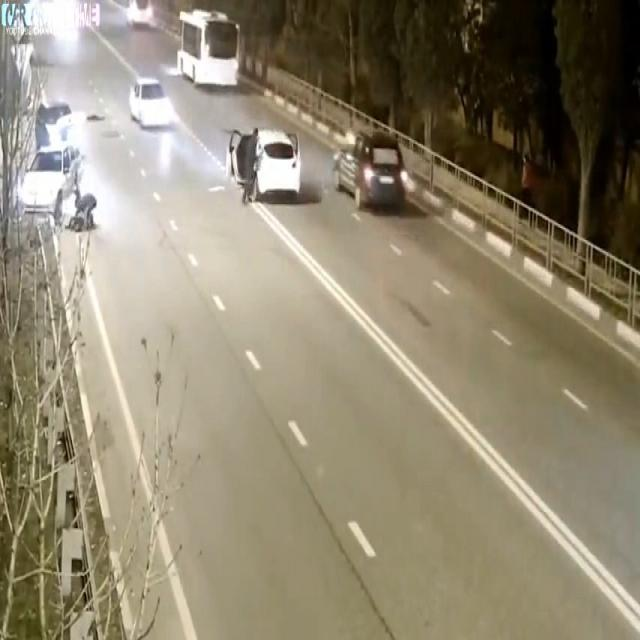Accident: (8, 89, 100, 292)
